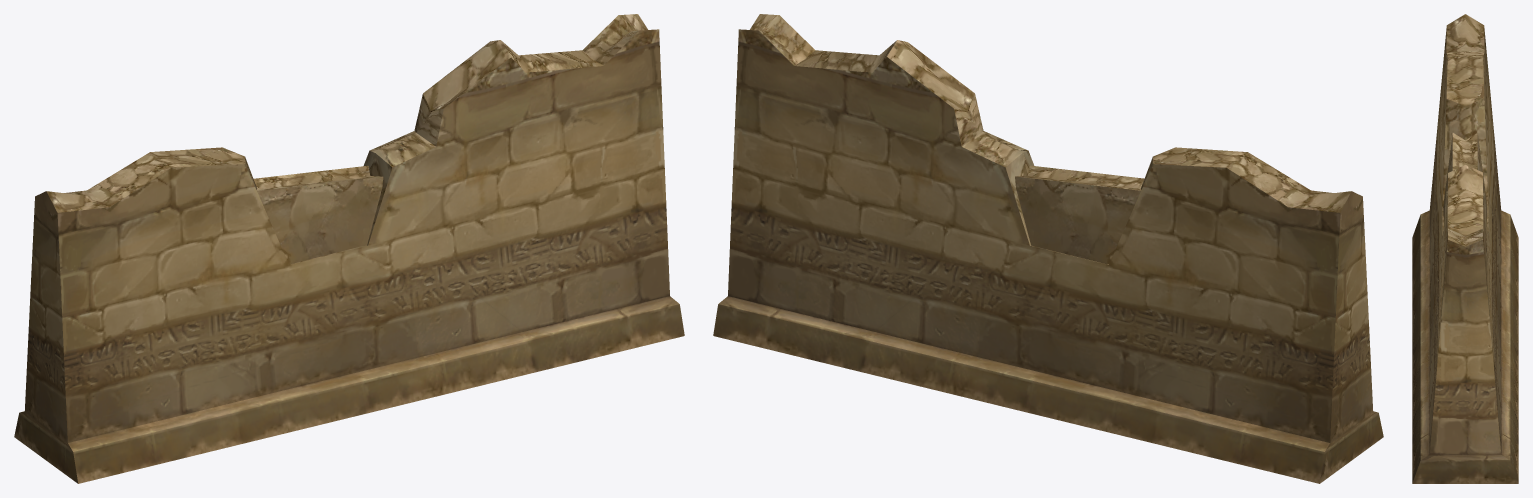
File: lv7_qiang_1.FBX
3 renders of one model, left to right at view 1: azimuth 30°, elevation 25°; view 2: azimuth 150°, elevation 25°; view 3: azimuth 270°, elevation 25°, orthographic. The views are drawn at different scales.
Parts seen in each view (by area): view 1: lv7_qiang_1; view 2: lv7_qiang_1; view 3: lv7_qiang_1.
Boxes of the visible parts, x1,y1,x2,y2 form: lv7_qiang_1: [14, 14, 684, 483]; lv7_qiang_1: [713, 14, 1383, 483]; lv7_qiang_1: [1412, 14, 1518, 483].
Bounding box in the file's own units: 881 × 430 × 161.
